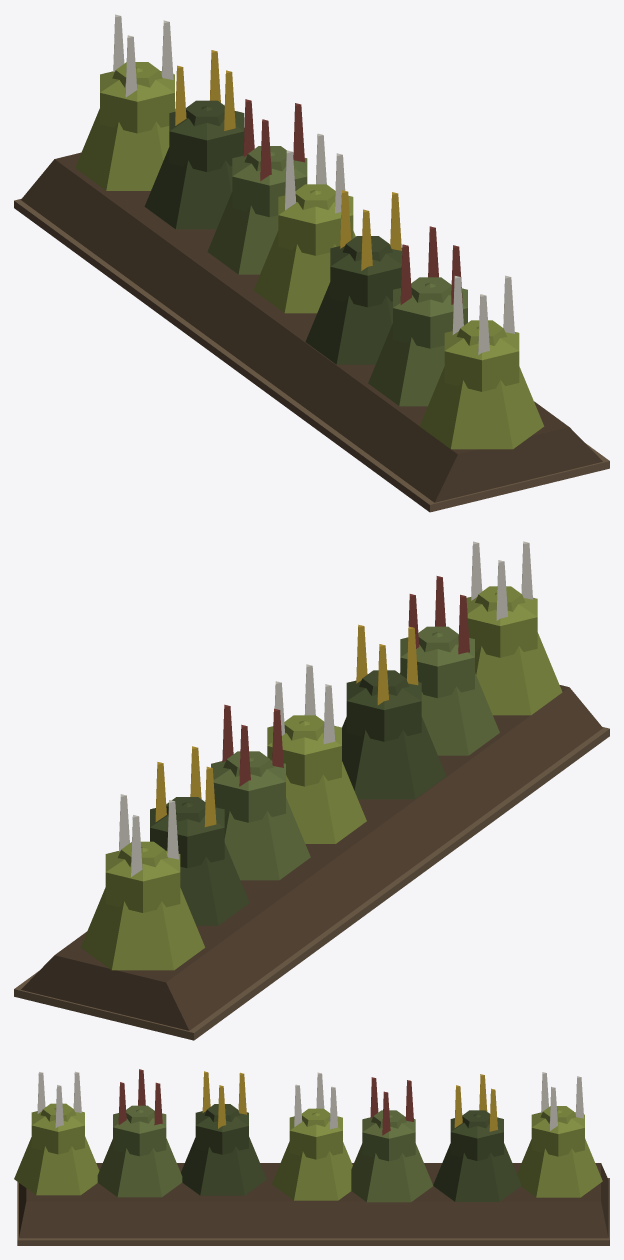
File: crop_herbs_s3.glb
3 views of the same model, one above another, from view 1: azimuth 30°, elevation 25°; view 2: azimuth 150°, elevation 25°; view 3: azimuth 270°, elevation 25° (orthographic). The views are drawn at different scales.
Visible parts, largest first — view 1: crop_herbs_s3_mesh; view 2: crop_herbs_s3_mesh; view 3: crop_herbs_s3_mesh.
Boxes of the visible parts, bbox=[...] form: crop_herbs_s3_mesh: bbox=[14, 14, 609, 512]; crop_herbs_s3_mesh: bbox=[14, 541, 609, 1040]; crop_herbs_s3_mesh: bbox=[14, 1069, 609, 1245].
Bounding box in the file's own units: 0.5 × 0.5 × 2.01.
